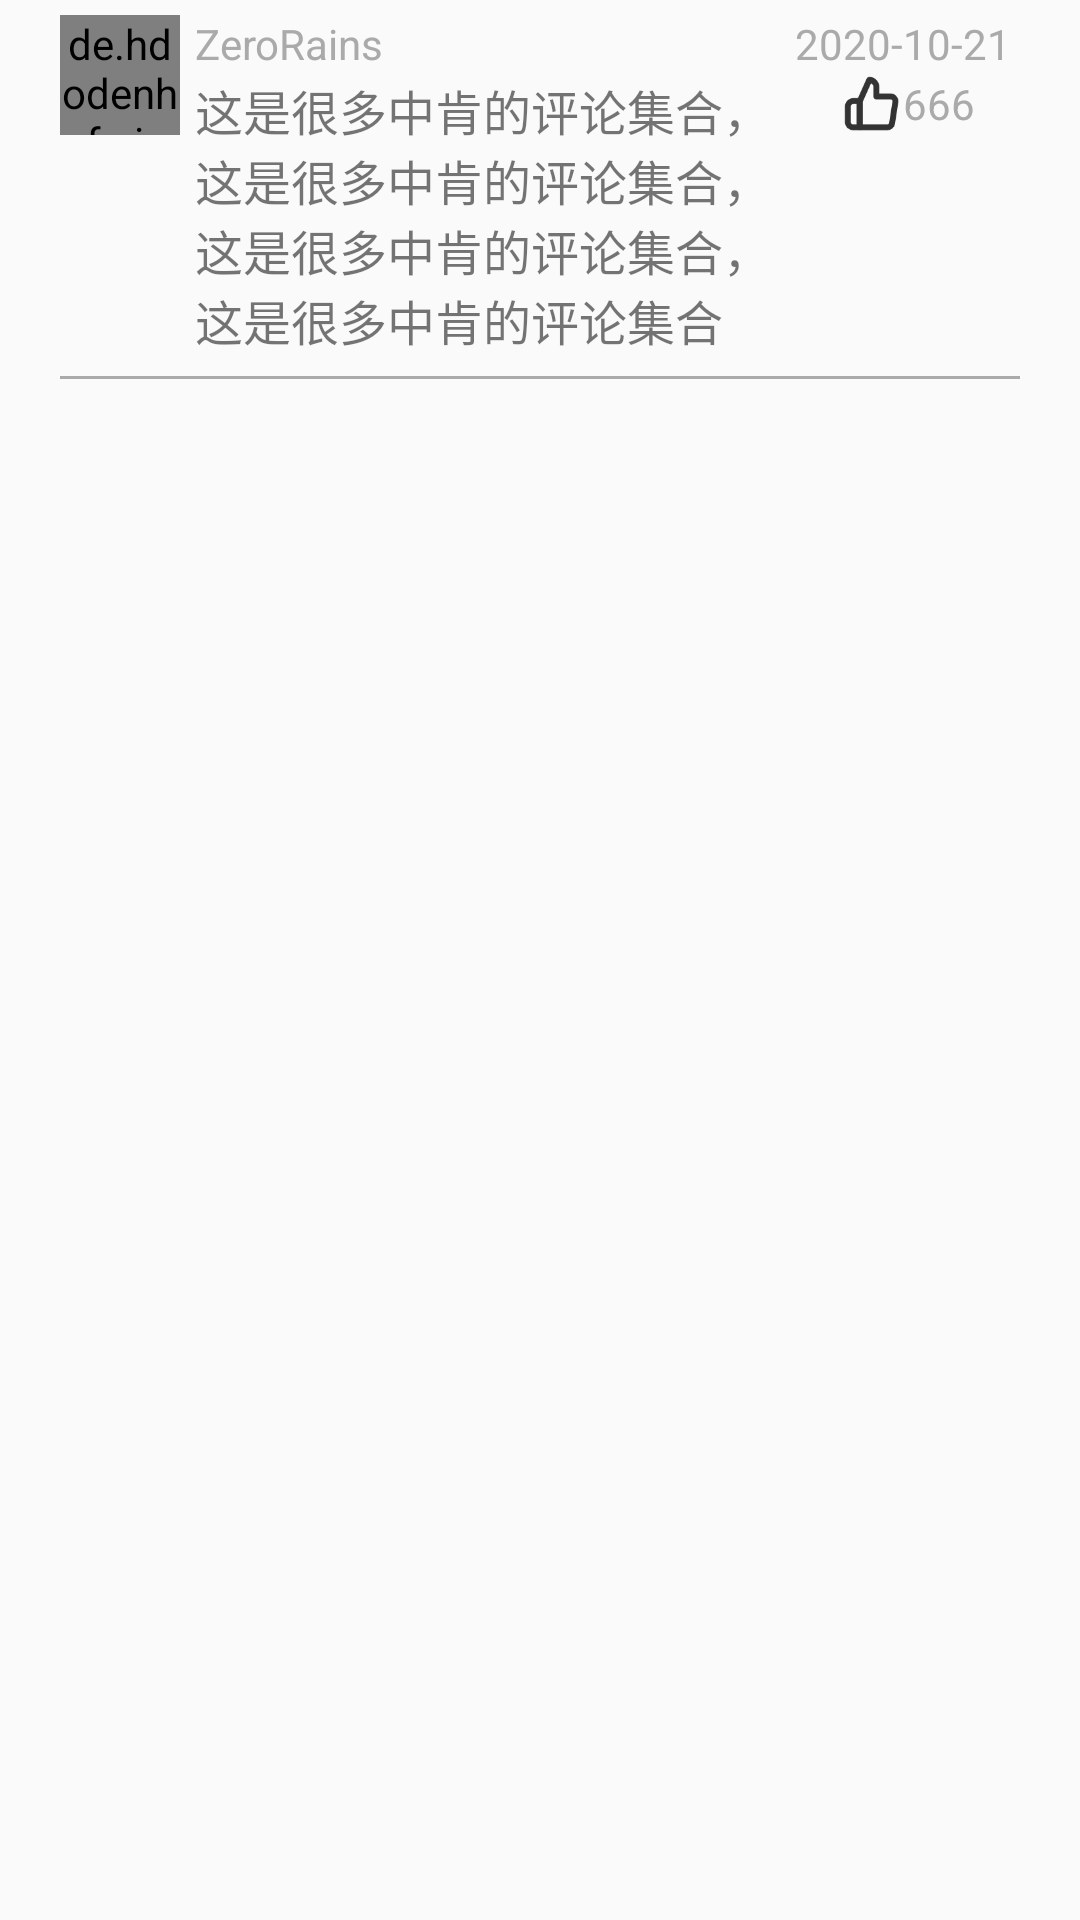

Icon click points for this 1080 × 1920 phone screenshot, format (x=x, y=y):
detail zan: (x=871, y=103)
